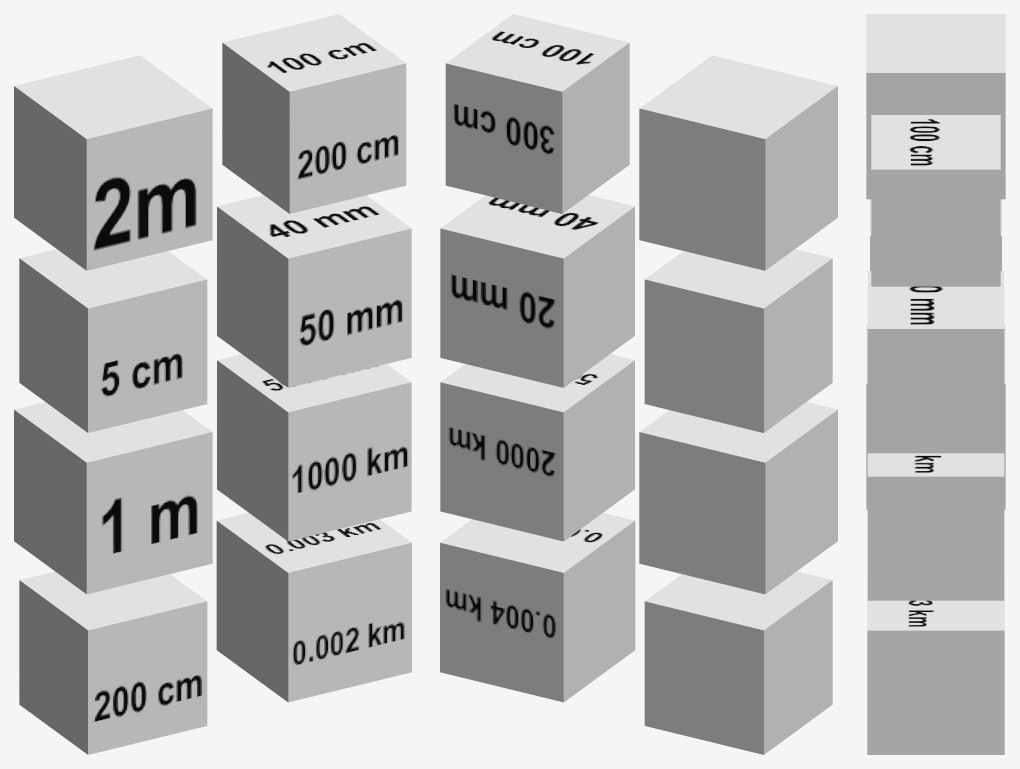
3 views of the same model, side by side, from view 1: azimuth 30°, elevation 25°; view 2: azimuth 150°, elevation 25°; view 3: azimuth 270°, elevation 25° (orthographic). The views are drawn at different scales.
Parts seen in each view (by area): view 1: pCube1, pCube4, pCube3, pCube8, pCube5, pCube6, pCube2, pCube7; view 2: pCube1, pCube4, pCube3, pCube8, pCube5, pCube6, pCube2, pCube7; view 3: pCube4, pCube5, pCube8, pCube6, pCube1, pCube3, pCube2.
Boxes of the visible parts, x1,y1,x2,y2 form: pCube1: (14, 55, 212, 270); pCube4: (217, 195, 411, 387); pCube3: (14, 402, 212, 594); pCube8: (216, 513, 411, 702); pCube5: (222, 14, 406, 213); pCube6: (217, 354, 411, 541); pCube2: (19, 249, 207, 432); pCube7: (19, 571, 207, 754); pCube1: (639, 55, 837, 270); pCube4: (440, 195, 634, 387); pCube3: (639, 402, 837, 594); pCube8: (440, 513, 635, 702); pCube5: (445, 14, 629, 213); pCube6: (440, 354, 634, 541); pCube2: (644, 249, 832, 432); pCube7: (644, 571, 832, 754); pCube4: (867, 271, 1004, 453); pCube5: (871, 115, 1000, 286); pCube8: (867, 573, 1004, 754); pCube6: (867, 453, 1004, 600); pCube1: (866, 14, 1005, 199); pCube3: (866, 324, 1005, 509); pCube2: (870, 199, 1001, 270).
Size of the model in its own units: 156 by 283 by 60.26.
Materials: 8 (8 with a texture image).
